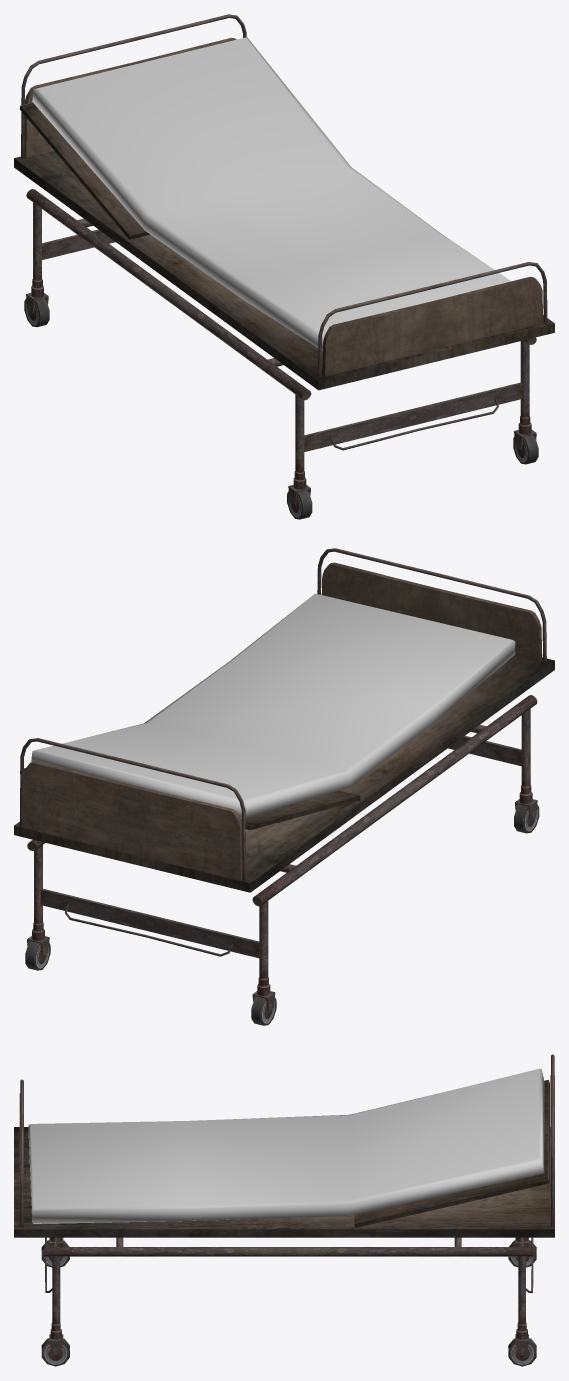
The model's file is infirmary_hospital_bed.dae.
3 views of the same model, one above another, from view 1: azimuth 30°, elevation 25°; view 2: azimuth 150°, elevation 25°; view 3: azimuth 270°, elevation 25° (orthographic). The views are drawn at different scales.
Parts seen in each view (by area): view 1: madrass, hospbed; view 2: hospbed, madrass; view 3: madrass, hospbed.
Part boxes in pixels (x1=…): madrass: x1=32, y1=37, x2=510, y2=350; hospbed: x1=14, y1=14, x2=554, y2=519; hospbed: x1=14, y1=548, x2=554, y2=1025; madrass: x1=31, y1=593, x2=515, y2=818; madrass: x1=28, y1=1068, x2=544, y2=1223; hospbed: x1=14, y1=1054, x2=554, y2=1366.
Size of what is drawn, in the model's own units: 1.09 by 1.07 by 2.39.
